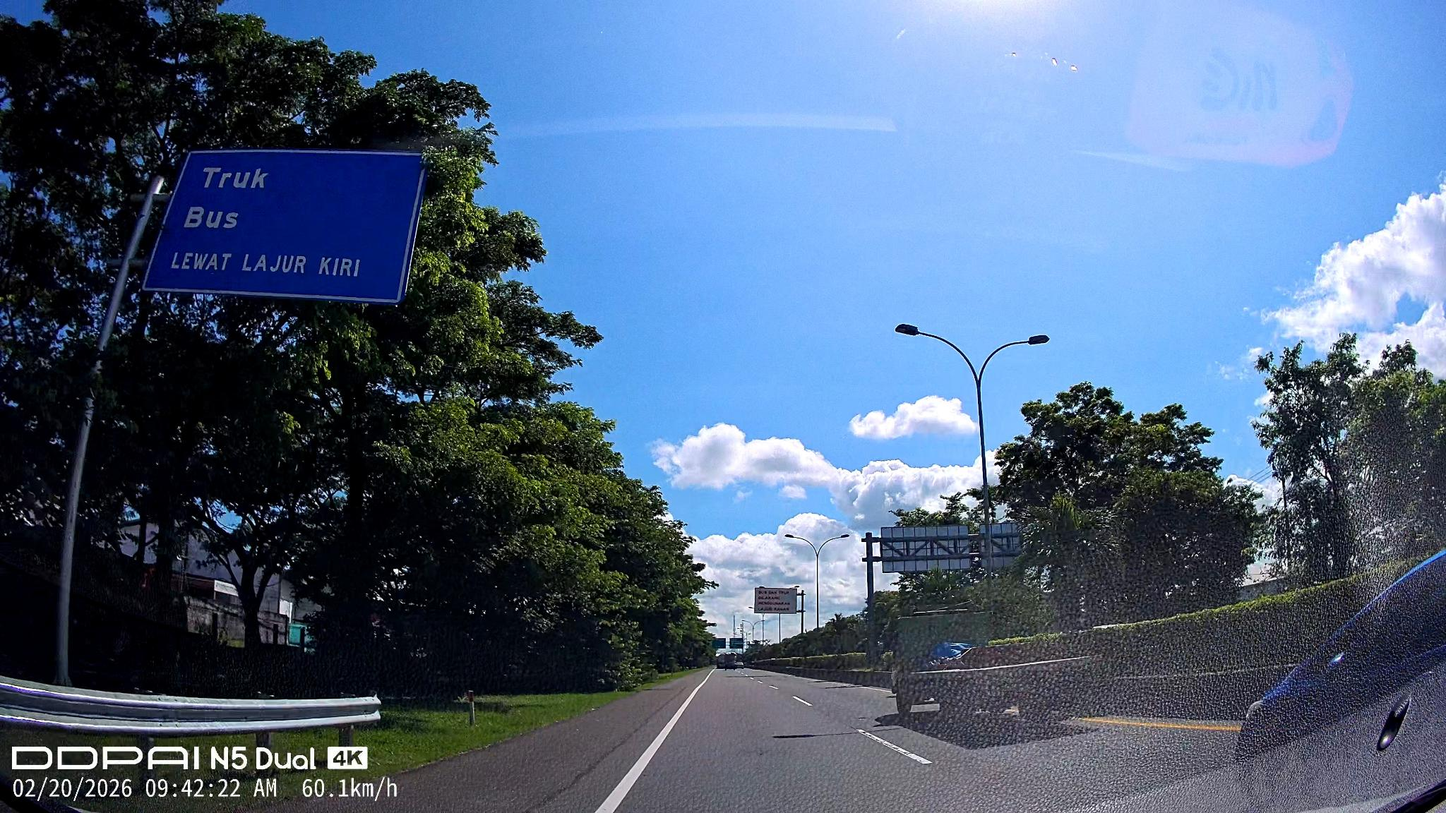rambu_teks: (138, 146, 435, 306)
